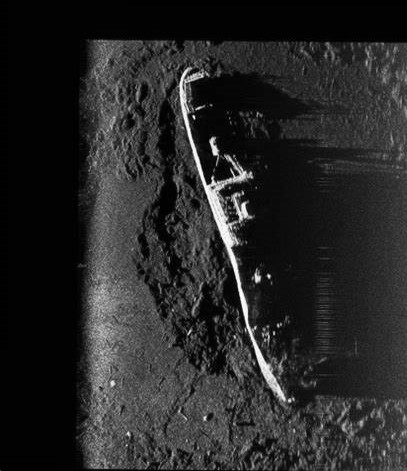ship: (176, 64, 328, 407)
